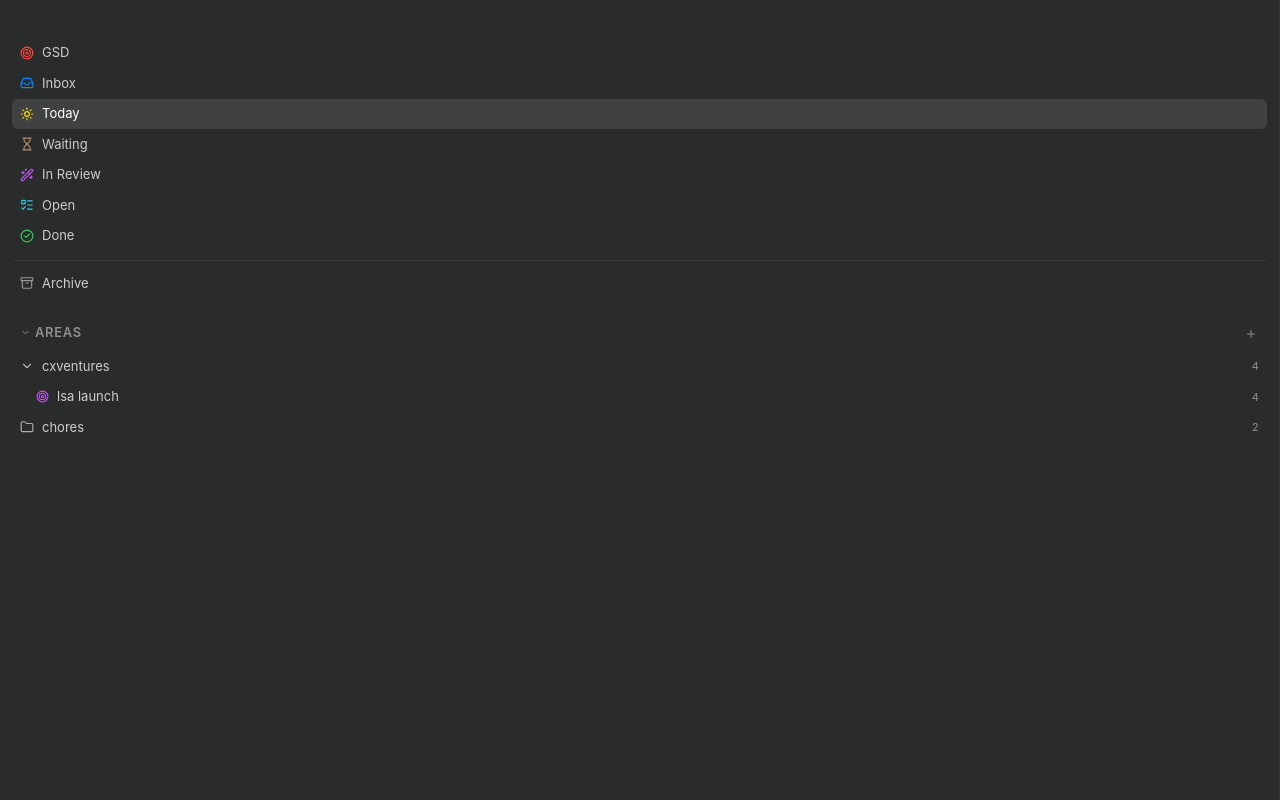
Test: Show hidden › keeps a click on the label collapsing the section
Click the button "Areas".
click(58, 332)  # box [12,322,1243,346]
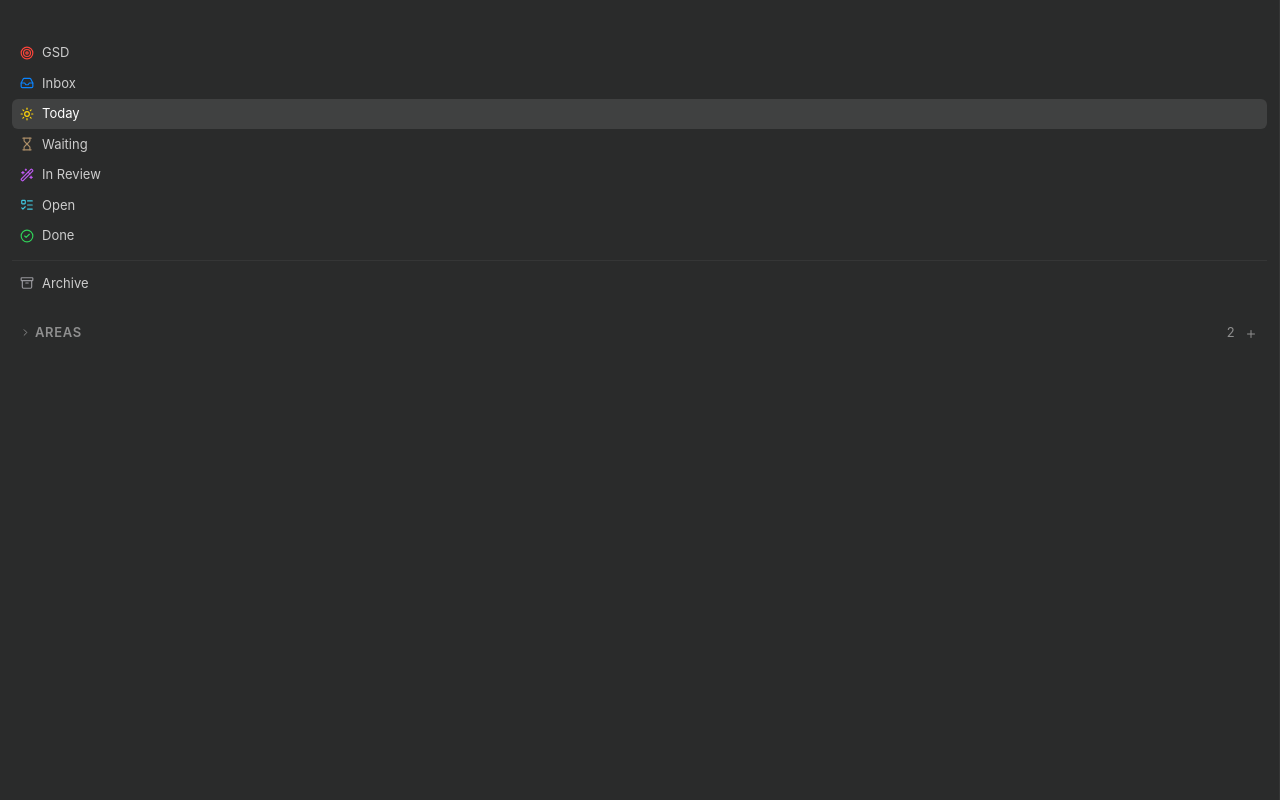
expect the button "Areas 2" is collapsed: met, box [12,322,1243,346]
